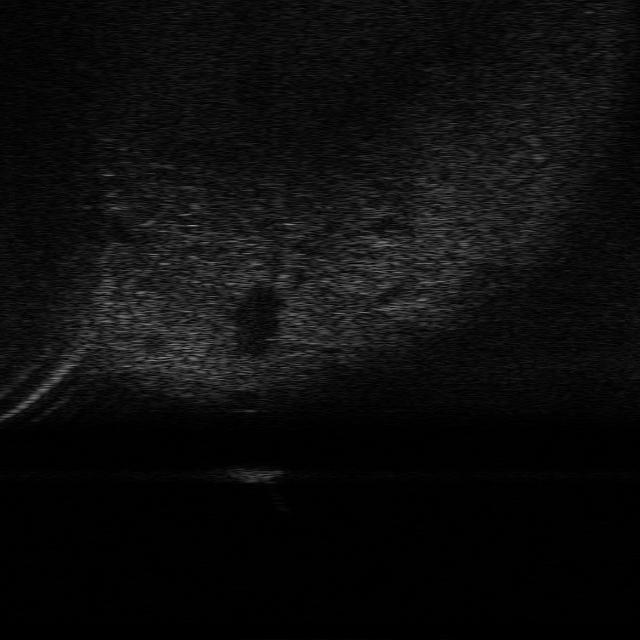cube: (225, 466, 285, 484)
